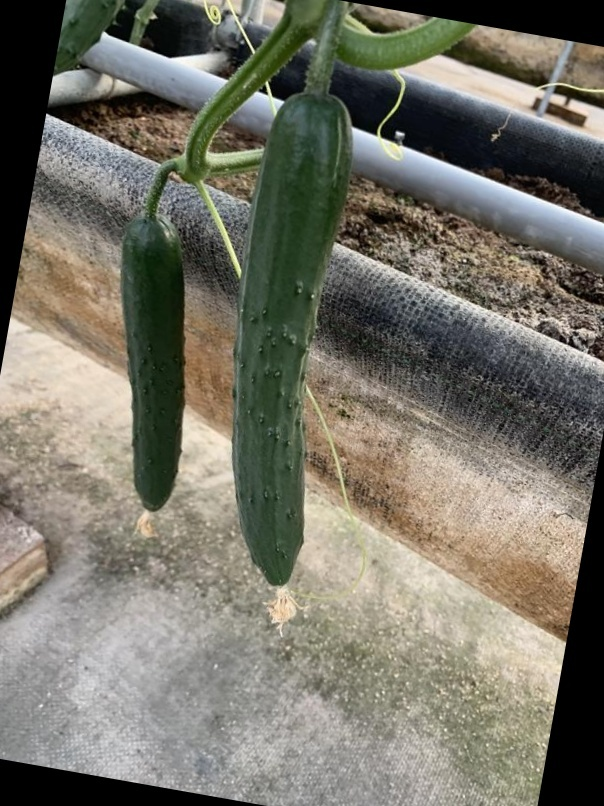mature: (227, 78, 356, 607), (114, 211, 199, 526)
